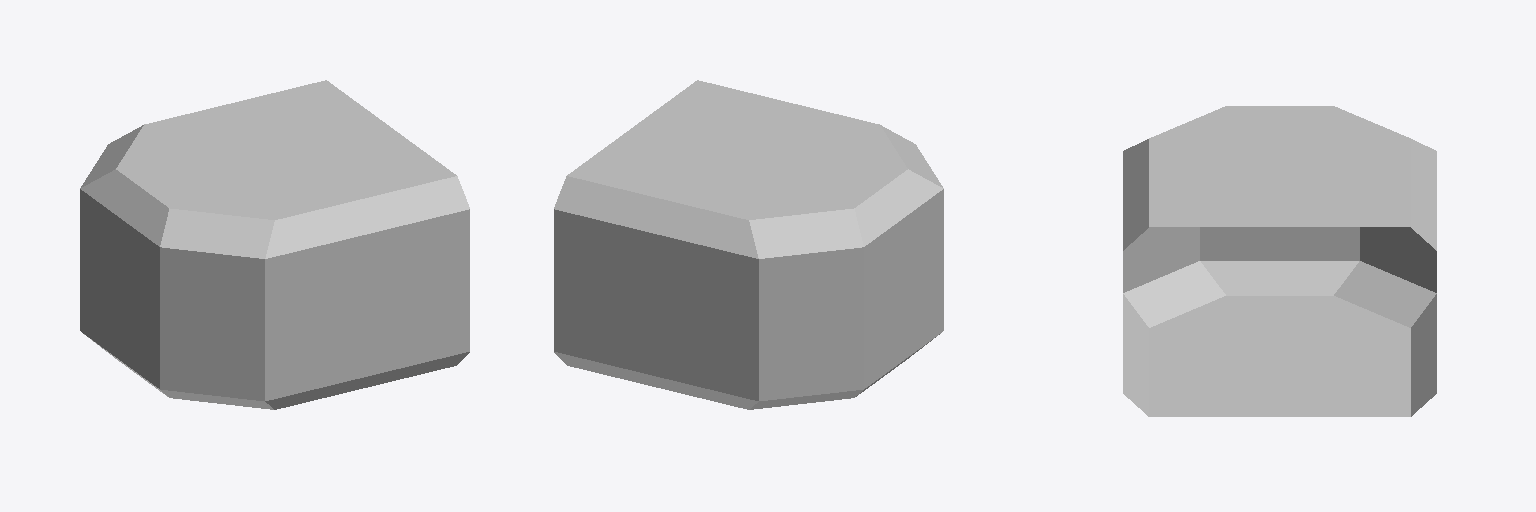
The model's file is Corridor_Room.obj.
3 renders of one model, left to right at view 1: azimuth 30°, elevation 25°; view 2: azimuth 150°, elevation 25°; view 3: azimuth 270°, elevation 25°, orthographic.
Visible parts, largest first — view 1: Corridor_Corner.001_Cube.033; view 2: Corridor_Corner.001_Cube.033; view 3: Corridor_Corner.001_Cube.033.
Part boxes in pixels (x1,y1,x2,y2): Corridor_Corner.001_Cube.033: (80,80,469,409); Corridor_Corner.001_Cube.033: (554,80,943,409); Corridor_Corner.001_Cube.033: (1123,106,1436,416).
Size of the model in its own units: 6 by 4 by 6.